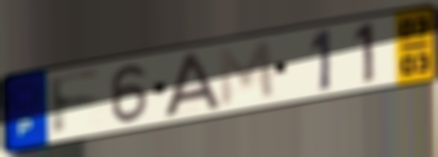1: (351, 20, 378, 87), (307, 26, 333, 94)
6: (108, 63, 151, 125)
A: (162, 50, 223, 120)
F: (46, 67, 105, 139)
M: (216, 38, 278, 110)
